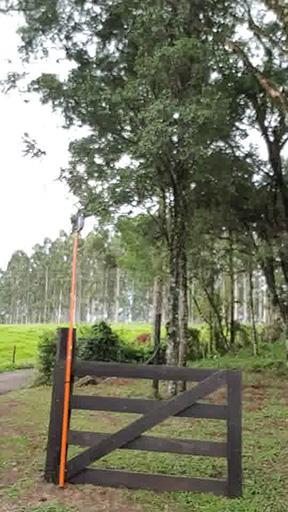Vara_Manobra: (57, 236, 80, 490)
